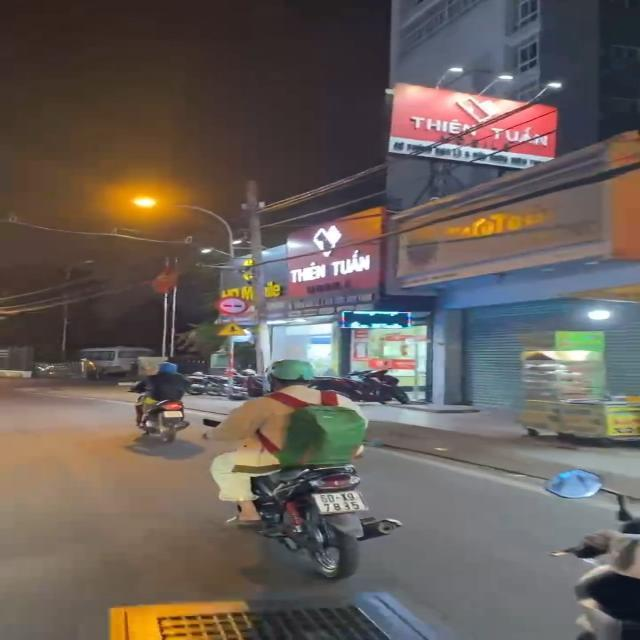125-cam-vuot: (218, 296, 248, 315)
207-giao-nhau-voi-duong-khong-uu-tien: (217, 320, 249, 336)
